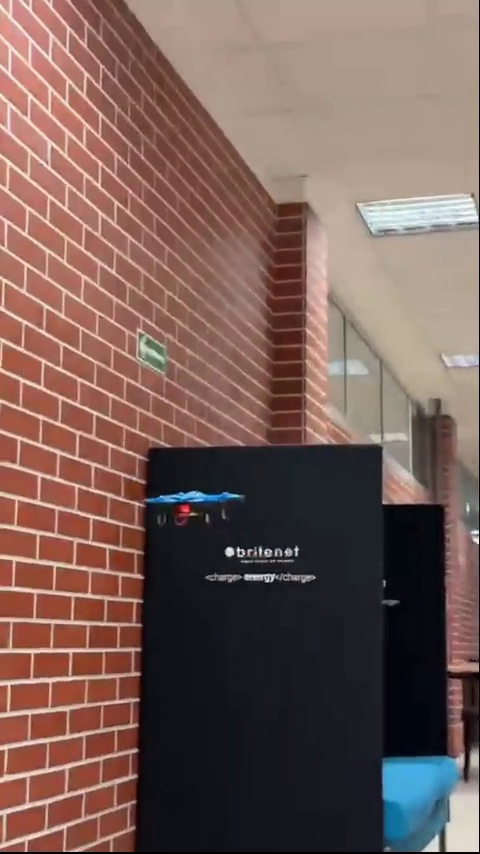drone: (145, 490, 247, 530)
